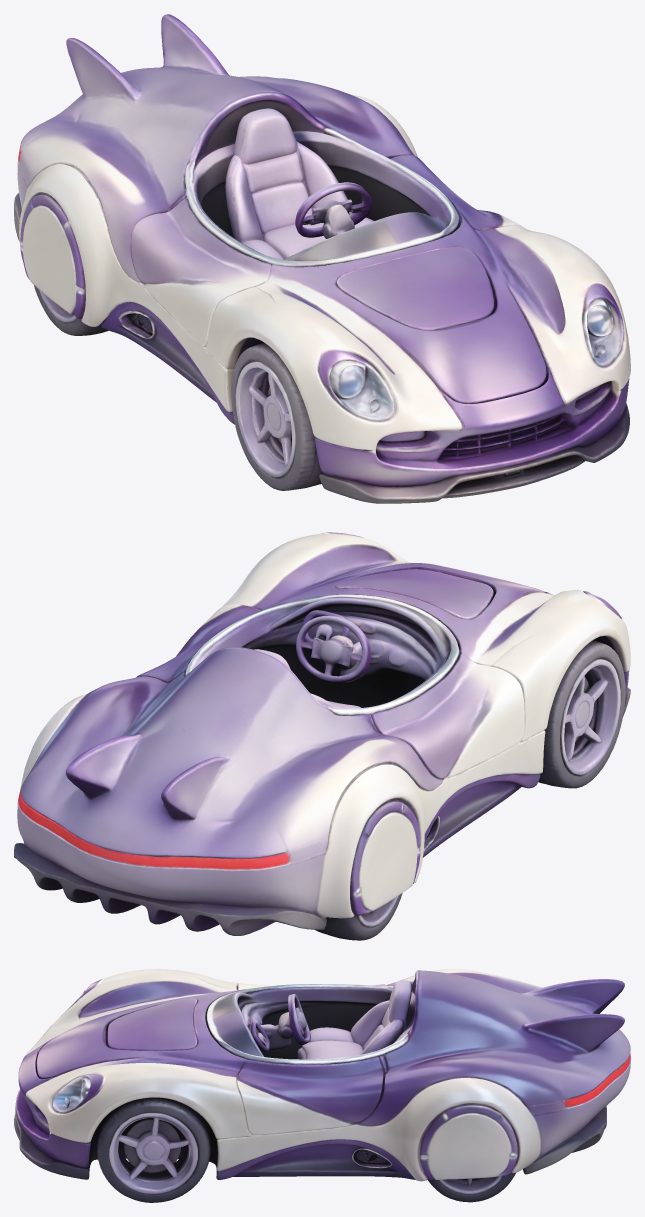
The model's file is nova-original.glb.
The picture shows the model from 3 angles, top to bottom: view 1: azimuth 30°, elevation 25°; view 2: azimuth 150°, elevation 25°; view 3: azimuth 270°, elevation 25°; orthographic projection. The views are drawn at different scales.
Parts seen in each view (by area): view 1: model; view 2: model; view 3: model.
Part boxes in pixels (box(x1,y1,x2,y2)): model: box(14, 14, 630, 503); model: box(14, 532, 630, 940); model: box(14, 969, 630, 1202).
Bounding box in the file's own units: 0.9283 × 0.5801 × 1.9.
Materials: 1 (1 with a texture image).
